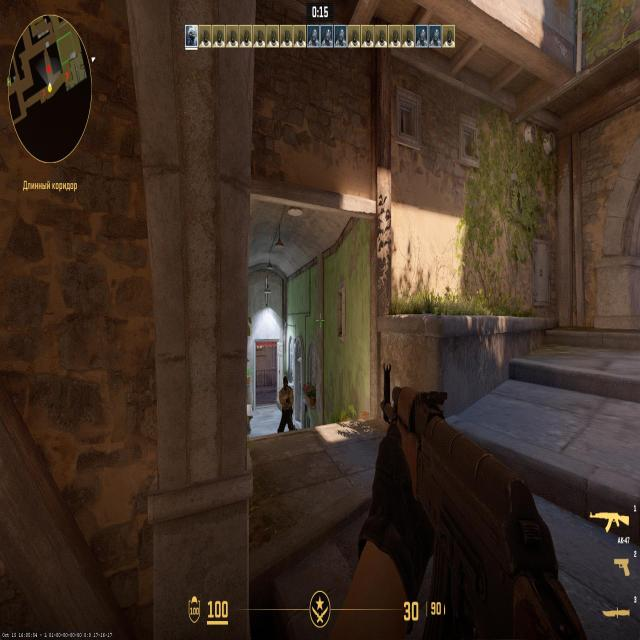T: (280, 376, 294, 429)
T_heat: (282, 378, 288, 392)
